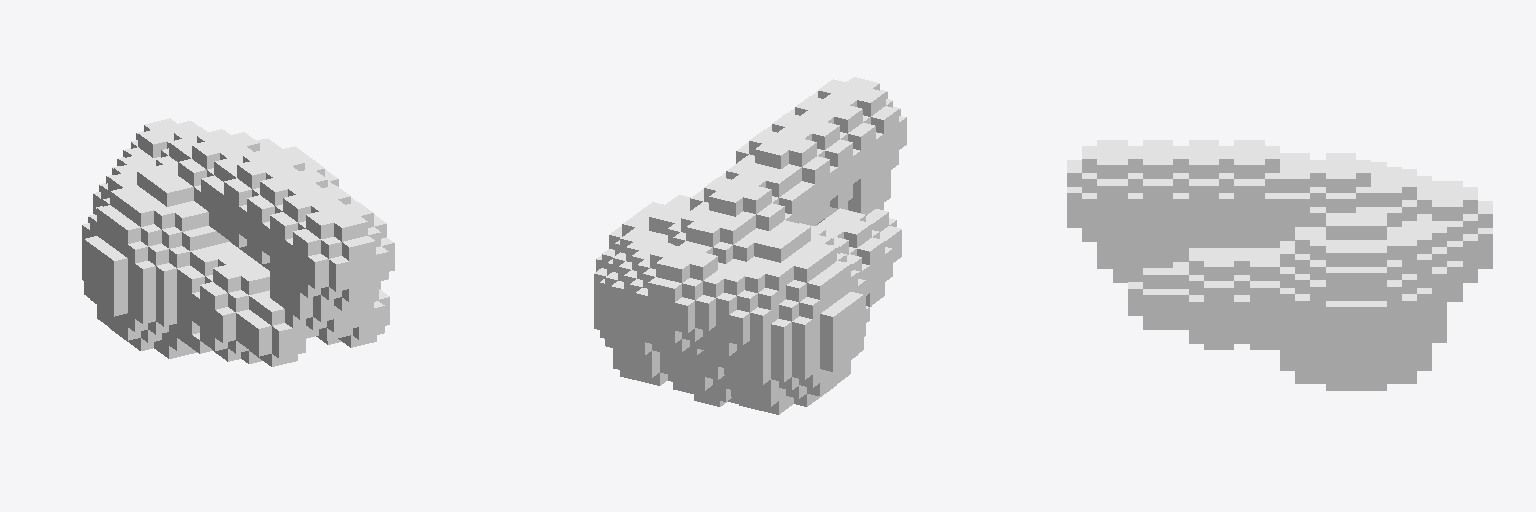
Rendered from TowerTopCannon.obj.
3 views of the same model, side by side, from view 1: azimuth 30°, elevation 25°; view 2: azimuth 150°, elevation 25°; view 3: azimuth 270°, elevation 25° (orthographic).
Parts seen in each view (by area): view 1: object 1; view 2: object 1; view 3: object 1.
Boxes of the visible parts, box(x1,y1,x2,y2) form: object 1: box(82, 118, 394, 366); object 1: box(594, 77, 906, 414); object 1: box(1067, 140, 1492, 390).
Size of the model in its own units: 1.8 by 1.5 by 2.8.